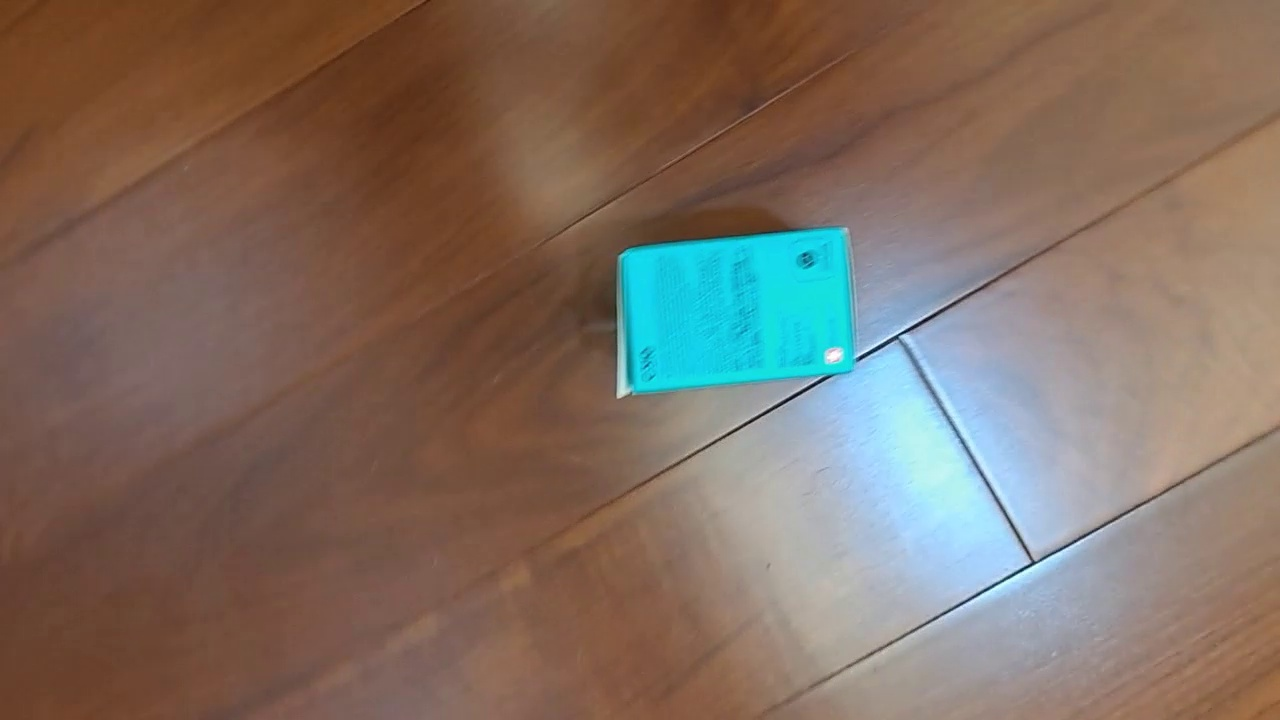webcam: (614, 223, 858, 400)
